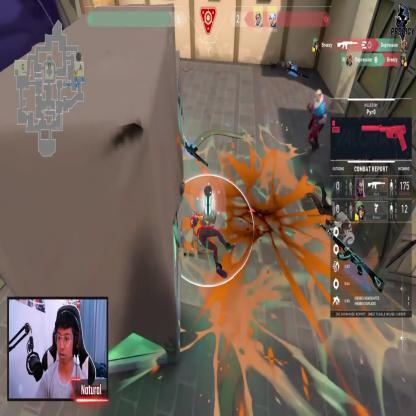enemy: (306, 86, 327, 154)
enemy_head: (315, 89, 322, 104)
